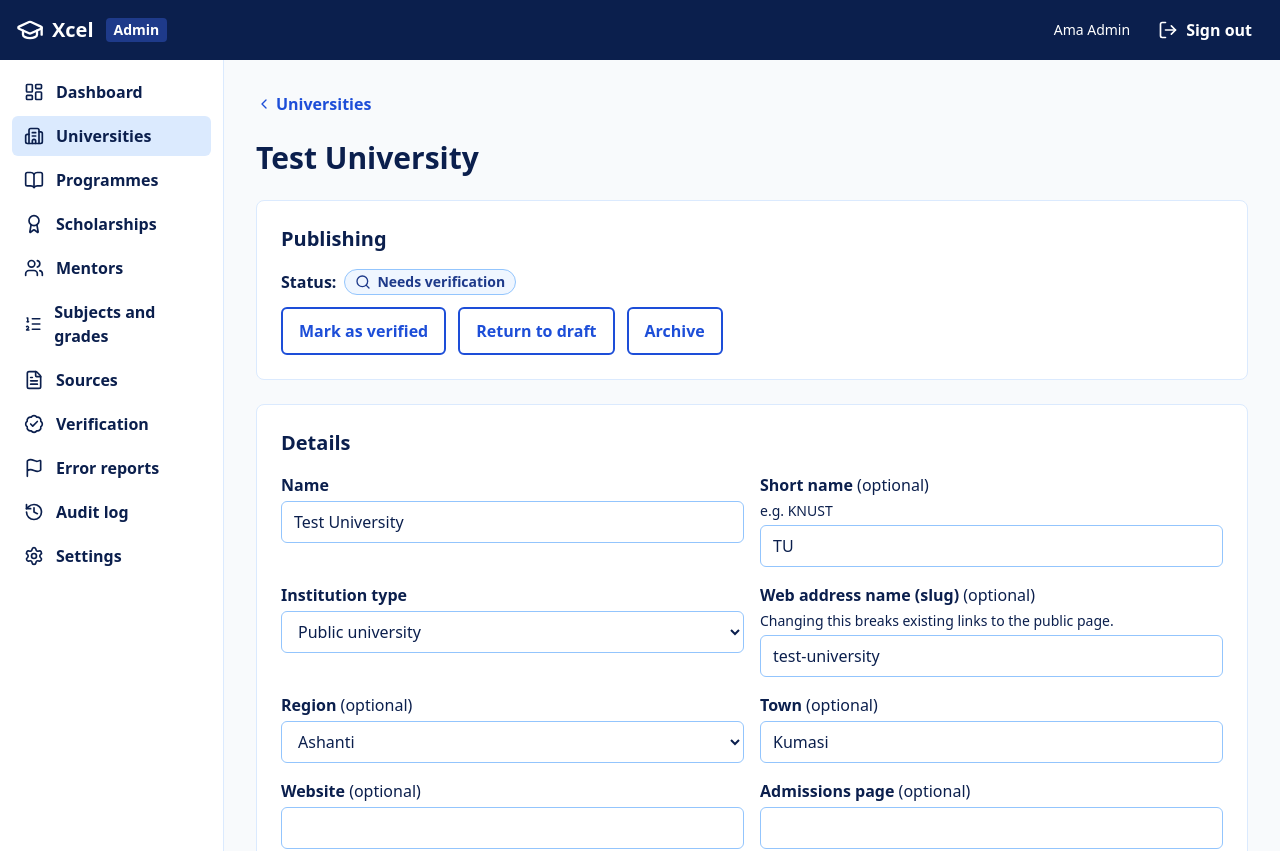
Test case: university editing › offers only the allowed workflow steps and shows why the server refused
This screenshot has width=1280, height=851.
Click the button "Mark as verified" at (364, 331), box [281,307,446,355]
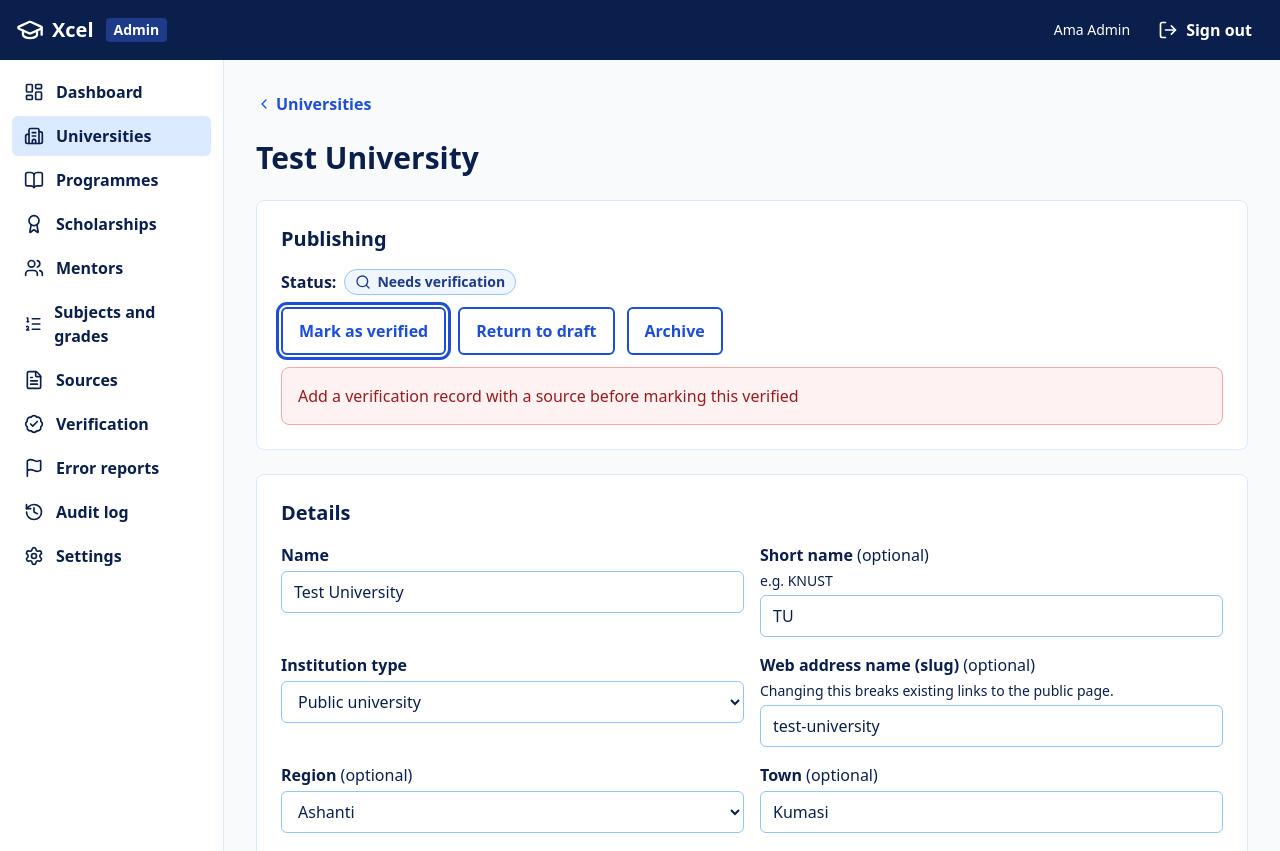
Expected: the message shows "Add a verification record", [298,385,799,407]
